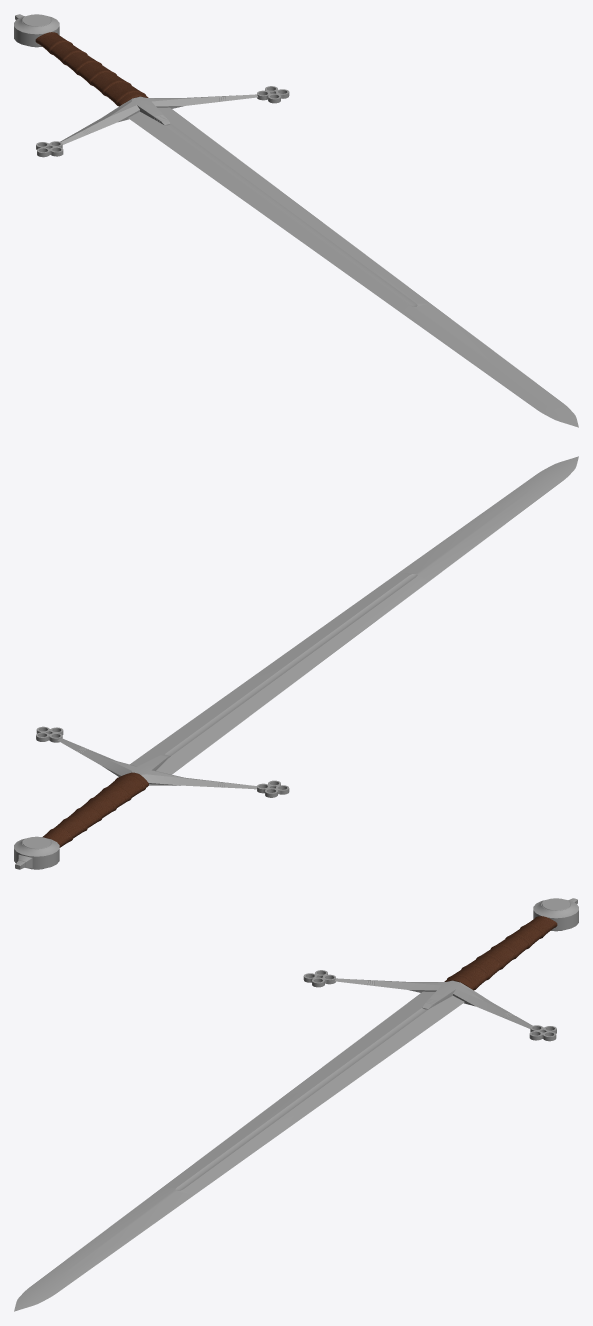
File: whclaymore.glb
3 views of the same model, one above another, from view 1: azimuth 30°, elevation 25°; view 2: azimuth 150°, elevation 25°; view 3: azimuth 330°, elevation 25° (orthographic).
Parts seen in each view (by area): view 1: Blade, Grip, guard, Pommel_03 - Default_0, Tube001_03 - Default_0; view 2: Blade, Grip, guard, Pommel_03 - Default_0, Tube001_03 - Default_0; view 3: Blade, Grip, guard, Pommel_03 - Default_0, Tube001_03 - Default_0.
Part boxes in pixels (x1=…): Blade: x1=128, y1=107, x2=578, y2=427; Grip: x1=35, y1=32, x2=148, y2=106; guard: x1=60, y1=94, x2=258, y2=144; Pommel_03 - Default_0: x1=14, y1=14, x2=59, y2=47; Tube001_03 - Default_0: x1=36, y1=86, x2=289, y2=157; Blade: x1=130, y1=456, x2=578, y2=774; Grip: x1=42, y1=772, x2=148, y2=847; guard: x1=57, y1=738, x2=256, y2=789; Pommel_03 - Default_0: x1=14, y1=836, x2=59, y2=869; Tube001_03 - Default_0: x1=36, y1=726, x2=289, y2=797; Blade: x1=14, y1=991, x2=464, y2=1311; Grip: x1=444, y1=916, x2=557, y2=990; guard: x1=334, y1=978, x2=532, y2=1028; Pommel_03 - Default_0: x1=533, y1=898, x2=578, y2=931; Tube001_03 - Default_0: x1=303, y1=970, x2=556, y2=1041.
Bounding box in the file's own units: 36.75 × 2.95 × 143.
2 materials, 1 textured.
